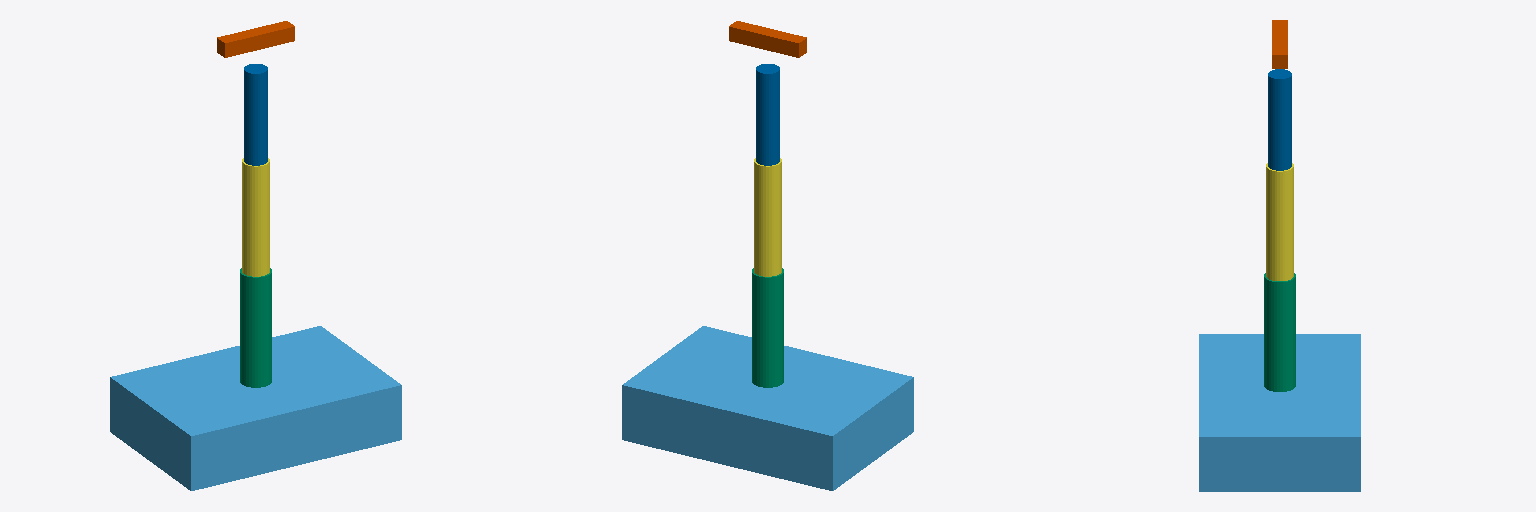
URDF robot description (MROV_gazebo_test):
<robot name="MROV_gazebo_test">

  <link name="world"/>

  <joint name="world_to_base" type="fixed">
    <parent link="world"/>
    <child link="Base_Link"/>
    <origin xyz="0 0 0.2" rpy="0 0 0"/>
  </joint>

  <link name="Base_Link">
    <inertial>
      <origin xyz="0 0 0" rpy="0 0 0"/>
      <mass value="10.0"/>
      <inertia ixx="0.2" iyy="0.2" izz="0.2" ixy="0" ixz="0" iyz="0"/>
    </inertial>
    <visual>
      <origin xyz="0 0 0" rpy="0 0 0"/>
      <geometry>
        <box size="0.6 0.4 0.15"/>
      </geometry>
    </visual>
    <collision>
      <origin xyz="0 0 0" rpy="0 0 0"/>
      <geometry>
        <box size="0.6 0.4 0.15"/>
      </geometry>
    </collision>
  </link>

  <link name="Link_1">
    <inertial>
      <origin xyz="0 0 0.15" rpy="0 0 0"/>
      <mass value="2.0"/>
      <inertia ixx="0.02" iyy="0.02" izz="0.02" ixy="0" ixz="0" iyz="0"/>
    </inertial>
    <visual>
      <origin xyz="0 0 0.15" rpy="0 0 0"/>
      <geometry>
        <cylinder radius="0.04" length="0.3"/>
      </geometry>
    </visual>
    <collision>
      <origin xyz="0 0 0.15" rpy="0 0 0"/>
      <geometry>
        <cylinder radius="0.04" length="0.3"/>
      </geometry>
    </collision>
  </link>

  <link name="Link_2">
    <inertial>
      <origin xyz="0 0 0.15" rpy="0 0 0"/>
      <mass value="1.5"/>
      <inertia ixx="0.015" iyy="0.015" izz="0.015" ixy="0" ixz="0" iyz="0"/>
    </inertial>
    <visual>
      <origin xyz="0 0 0.15" rpy="0 0 0"/>
      <geometry>
        <cylinder radius="0.035" length="0.3"/>
      </geometry>
    </visual>
    <collision>
      <origin xyz="0 0 0.15" rpy="0 0 0"/>
      <geometry>
        <cylinder radius="0.035" length="0.3"/>
      </geometry>
    </collision>
  </link>

  <link name="Link_3">
    <inertial>
      <origin xyz="0 0 0.125" rpy="0 0 0"/>
      <mass value="1.0"/>
      <inertia ixx="0.01" iyy="0.01" izz="0.01" ixy="0" ixz="0" iyz="0"/>
    </inertial>
    <visual>
      <origin xyz="0 0 0.125" rpy="0 0 0"/>
      <geometry>
        <cylinder radius="0.03" length="0.25"/>
      </geometry>
    </visual>
    <collision>
      <origin xyz="0 0 0.125" rpy="0 0 0"/>
      <geometry>
        <cylinder radius="0.03" length="0.25"/>
      </geometry>
    </collision>
  </link>

  <link name="Link_4">
    <inertial>
      <origin xyz="0 0 0.08" rpy="0 0 0"/>
      <mass value="0.5"/>
      <inertia ixx="0.005" iyy="0.005" izz="0.005" ixy="0" ixz="0" iyz="0"/>
    </inertial>
    <visual>
      <origin xyz="0 0 0.08" rpy="0 0 0"/>
      <geometry>
        <box size="0.2 0.04 0.04"/>
      </geometry>
    </visual>
    <collision>
      <origin xyz="0 0 0.08" rpy="0 0 0"/>
      <geometry>
        <box size="0.2 0.04 0.04"/>
      </geometry>
    </collision>
  </link>

  <joint name="joint_1" type="revolute">
    <parent link="Base_Link"/>
    <child link="Link_1"/>
    <origin xyz="0 0 0.075" rpy="0 0 0"/>
    <axis xyz="0 0 1"/>
    <limit lower="-3.14" upper="3.14" effort="50" velocity="1"/>
  </joint>

  <joint name="joint_2" type="revolute">
    <parent link="Link_1"/>
    <child link="Link_2"/>
    <origin xyz="0 0 0.3" rpy="0 0 0"/>
    <axis xyz="0 1 0"/>
    <limit lower="-1.57" upper="1.57" effort="50" velocity="1"/>
  </joint>

  <joint name="joint_3" type="revolute">
    <parent link="Link_2"/>
    <child link="Link_3"/>
    <origin xyz="0 0 0.3" rpy="0 0 0"/>
    <axis xyz="0 1 0"/>
    <limit lower="-1.57" upper="1.57" effort="50" velocity="1"/>
  </joint>

  <joint name="joint_4" type="revolute">
    <parent link="Link_3"/>
    <child link="Link_4"/>
    <origin xyz="0 0 0.25" rpy="0 0 0"/>
    <axis xyz="0 1 0"/>
    <limit lower="-1.57" upper="1.57" effort="50" velocity="1"/>
  </joint>

</robot>

--- Render facts (derived) ---
3 views of the same robot in one strip: view 1: azimuth 30°, elevation 25°; view 2: azimuth 150°, elevation 25°; view 3: azimuth 270°, elevation 25° (orthographic).
Robot: MROV_gazebo_test — 6 links, 5 joints (4 revolute, 1 fixed); root link world; default pose: every joint at zero.
Visible links, largest first — view 1: Base_Link, Link_1, Link_2, Link_3, Link_4; view 2: Base_Link, Link_1, Link_2, Link_3, Link_4; view 3: Base_Link, Link_1, Link_2, Link_3, Link_4.
Boxes of the visible links, box(x1,y1,x2,y2) form: Base_Link: box(110, 326, 401, 490); Link_1: box(240, 268, 271, 387); Link_2: box(242, 158, 269, 276); Link_3: box(244, 64, 267, 165); Link_4: box(217, 21, 294, 57); Base_Link: box(622, 326, 913, 490); Link_1: box(752, 268, 783, 387); Link_2: box(754, 158, 781, 276); Link_3: box(756, 64, 779, 165); Link_4: box(729, 21, 806, 57); Base_Link: box(1199, 334, 1360, 491); Link_1: box(1264, 273, 1295, 391); Link_2: box(1266, 163, 1293, 280); Link_3: box(1268, 69, 1291, 170); Link_4: box(1272, 20, 1287, 68).
Bounding box of the posed robot: 0.6 × 0.4 × 1.1 m (x, y, z).
Geometry: primitives only (box / cylinder / sphere), no mesh files.
